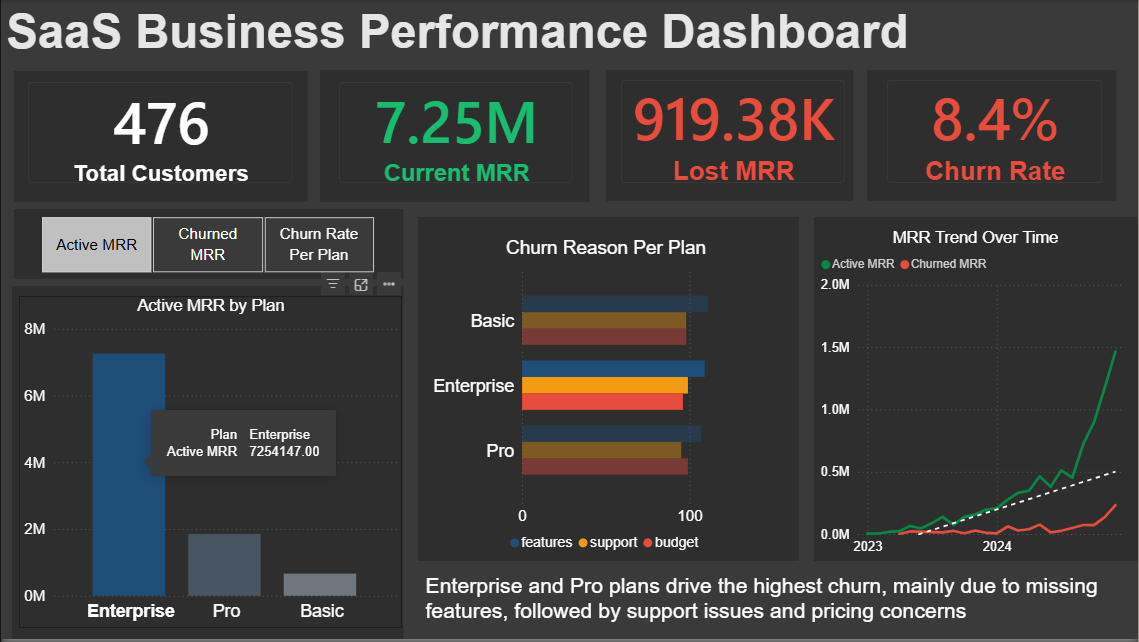

The page's visual inventory and layout, read from the dashboard file:
{"tool":"powerbi","page":{"name":"SaaS Dashboard","canvas":[1280,720],"ordinal":0},"visuals":[{"type":"shape","box":[13.8,235,438.8,78.8],"z":0},{"type":"shape","box":[468.7,244.5,429.3,387.6],"z":1000},{"type":"shape","box":[680,78.8,278.8,147.5],"z":2000},{"type":"shape","box":[13.8,80,331.2,147.5],"z":3000},{"type":"shape","box":[358.8,78.8,303.8,148.8],"z":4000},{"type":"shape","box":[914.9,244.5,365.1,387.6],"z":5000},{"type":"cardVisual","fields":{"Data":["_measures.Active MRR"]},"box":[362.5,75,297.5,148.8],"z":6000},{"type":"shape","box":[11.2,322.5,441.2,398.8],"z":7000},{"type":"cardVisual","fields":{"Data":["_measures.Churned MRR"]},"box":[680,73.8,286.2,150],"z":8000},{"type":"textbox","box":[0,0,1118.5,75.5],"z":9000},{"type":"shape","box":[975,78.8,281.2,147.5],"z":10000},{"type":"cardVisual","fields":{"Data":["_measures.Churn Rate"]},"box":[980,73.8,276.2,150],"z":11000},{"type":"cardVisual","fields":{"Data":["_measures.Total Customers"]},"box":[12.5,75,332.5,148.8],"z":12000},{"type":"columnChart","fields":{"Y":["_measures.Active MRR"],"Category":["ravenstack_subscriptions_fact.Plan"]},"box":[18.8,333.8,432.5,373.8],"z":13000},{"type":"clusteredBarChart","title":"Churn Reason Per Plan","fields":{"Category":["ravenstack_subscriptions_fact.Plan"],"Y":["_measures.Churn Reason Per Plan"],"Series":["Churn Reasons Table.reason_code"]},"box":[472.1,267,416.9,365.1],"z":14000},{"type":"slicer","fields":{"Values":["Plans Parameter.Plans Parameter"]},"box":[18.8,237.5,423.8,76.2],"z":15000},{"type":"lineChart","title":"MRR Trend Over Time","fields":{"Category":["ravenstack_subscriptions_fact.Start_Date.Variation.Date Hierarchy.Year","ravenstack_subscriptions_fact.Start_Date.Variation.Date Hierarchy.Quarter","ravenstack_subscriptions_fact.Start_Date.Variation.Date Hierarchy.Month","ravenstack_subscriptions_fact.Start_Date.Variation.Date Hierarchy.Day"],"Y":["Sum(ravenstack_subscriptions_fact.Monthly Revenue)","_measures.Churned MRR"]},"box":[917.2,256.9,359.4,375.2],"z":16000},{"type":"textbox","box":[472.1,641.1,784.2,66.5],"z":17000}]}

Visuals, with their boxes in screenshot pixels (x1, y1, x2, y2), scaled from the page's 1280x720 canvas onto the 1139x642 screenshot:
shape: 12:210:403:280
shape: 417:218:799:564
shape: 605:70:853:202
shape: 12:71:307:203
shape: 319:70:590:203
shape: 814:218:1138:564
cardVisual - _measures.Active MRR: 323:67:587:200
shape: 10:288:403:641
cardVisual - _measures.Churned MRR: 605:66:860:200
textbox: 0:0:995:67
shape: 868:70:1118:202
cardVisual - _measures.Churn Rate: 872:66:1118:200
cardVisual - _measures.Total Customers: 11:67:307:200
columnChart - _measures.Active MRR x ravenstack_subscriptions_fact.Plan: 17:298:402:631
"Churn Reason Per Plan" clusteredBarChart: 420:238:791:564
slicer - Plans Parameter.Plans Parameter: 17:212:394:280
"MRR Trend Over Time" lineChart: 816:229:1136:564
textbox: 420:572:1118:631
